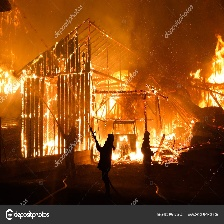fire: (17, 103, 223, 166), (1, 53, 160, 101), (178, 33, 224, 107)
